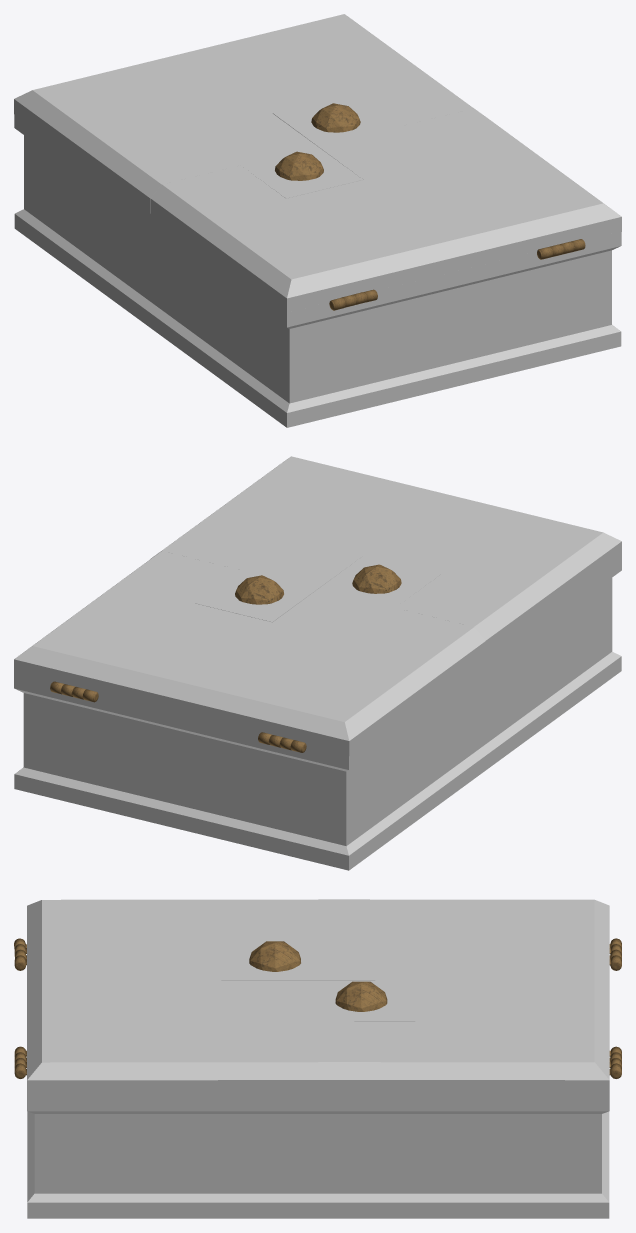
The model's file is GameBox.fbx.
3 renders of one model, top to bottom at view 1: azimuth 30°, elevation 25°; view 2: azimuth 150°, elevation 25°; view 3: azimuth 270°, elevation 25°, orthographic. The views are drawn at different scales.
Parts seen in each view (by area): view 1: Box, Lid_L, Lid_R, Gem_L, Gem_R; view 2: Box, Lid_R, Lid_L, Gem_R, Gem_L; view 3: Box, Lid_R, Lid_L, Gem_L, Gem_R.
Boxes of the visible parts, x1=… form: Box: x1=14, y1=115, x2=621, y2=427; Lid_L: x1=150, y1=94, x2=621, y2=312; Lid_R: x1=14, y1=14, x2=473, y2=213; Gem_L: x1=311, y1=103, x2=360, y2=132; Gem_R: x1=275, y1=151, x2=323, y2=180; Box: x1=14, y1=555, x2=621, y2=870; Lid_R: x1=14, y1=551, x2=485, y2=756; Lid_L: x1=151, y1=456, x2=621, y2=654; Gem_R: x1=352, y1=564, x2=401, y2=593; Gem_L: x1=235, y1=575, x2=283, y2=604; Box: x1=27, y1=1096, x2=609, y2=1218; Lid_R: x1=221, y1=899, x2=609, y2=1096; Lid_L: x1=27, y1=899, x2=415, y2=1096; Gem_L: x1=335, y1=981, x2=387, y2=1011; Gem_R: x1=249, y1=941, x2=300, y2=971.
Bounding box in the file's own units: 240 × 108 × 352.
